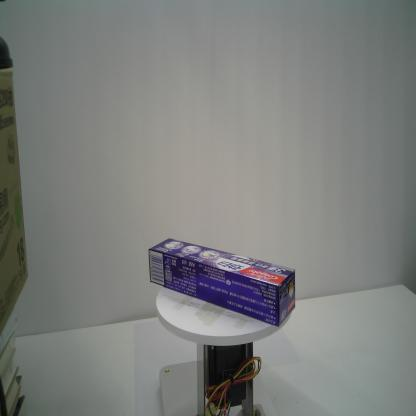Personal Hygiene: (148, 237, 297, 328)
